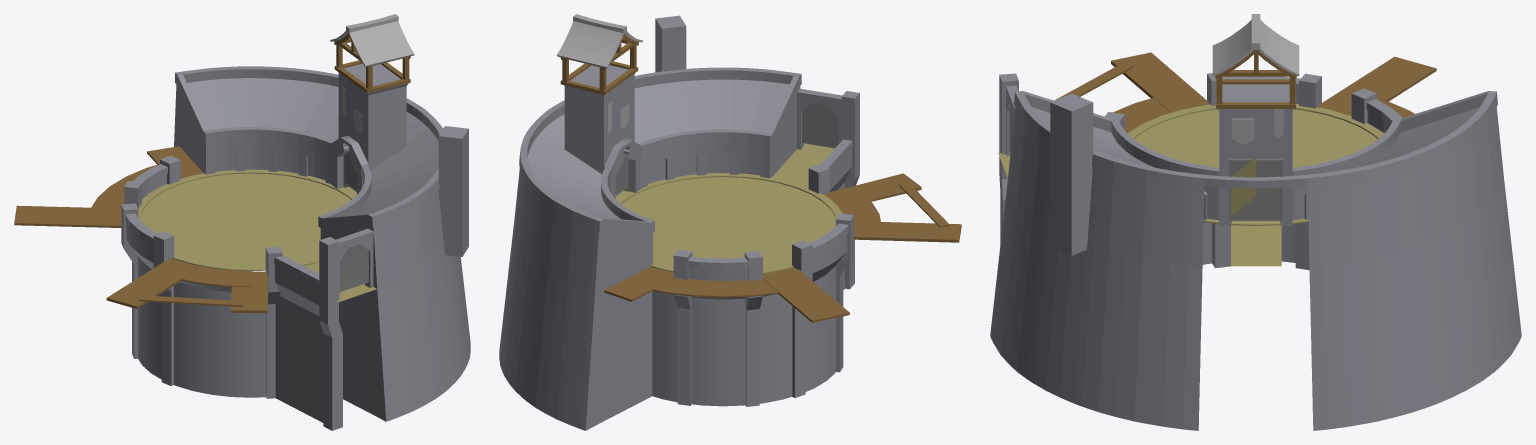
File: _rena_0.1.fbx
3 views of the same model, side by side, from view 1: azimuth 30°, elevation 25°; view 2: azimuth 150°, elevation 25°; view 3: azimuth 270°, elevation 25° (orthographic). The views are drawn at different scales.
Parts seen in each view (by area): view 1: Save2; view 2: Save2; view 3: Save2.
Part boxes in pixels (x1=…): Save2: x1=14, y1=14, x2=470, y2=430; Save2: x1=499, y1=14, x2=961, y2=430; Save2: x1=990, y1=14, x2=1521, y2=430.
Bounding box in the file's own units: 3.68 × 2.81 × 3.72.
